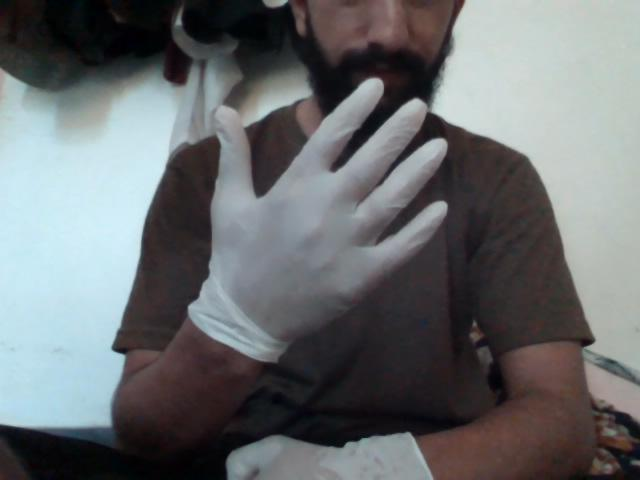gloves: (162, 89, 482, 383), (194, 414, 448, 480)
